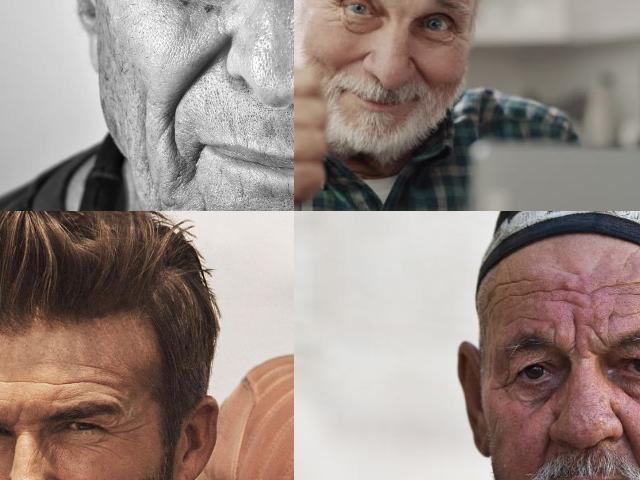bunny_line: (33, 442, 56, 466)
crows_feet: (492, 368, 516, 399), (107, 420, 129, 440), (452, 24, 468, 46), (325, 0, 342, 15)
forehead: (0, 374, 103, 393), (488, 271, 538, 309), (546, 276, 592, 312), (606, 268, 640, 303), (620, 301, 640, 322)
frown_line: (565, 316, 585, 354), (589, 322, 609, 349), (545, 318, 559, 347)
gummy_smile: (176, 30, 224, 100), (622, 427, 640, 467), (534, 434, 552, 470), (409, 59, 431, 84), (339, 50, 368, 68)
masseter: (134, 96, 158, 176)
sad_smile: (164, 118, 192, 174)
